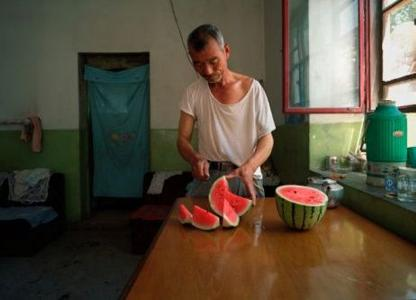person: (178, 23, 277, 199)
